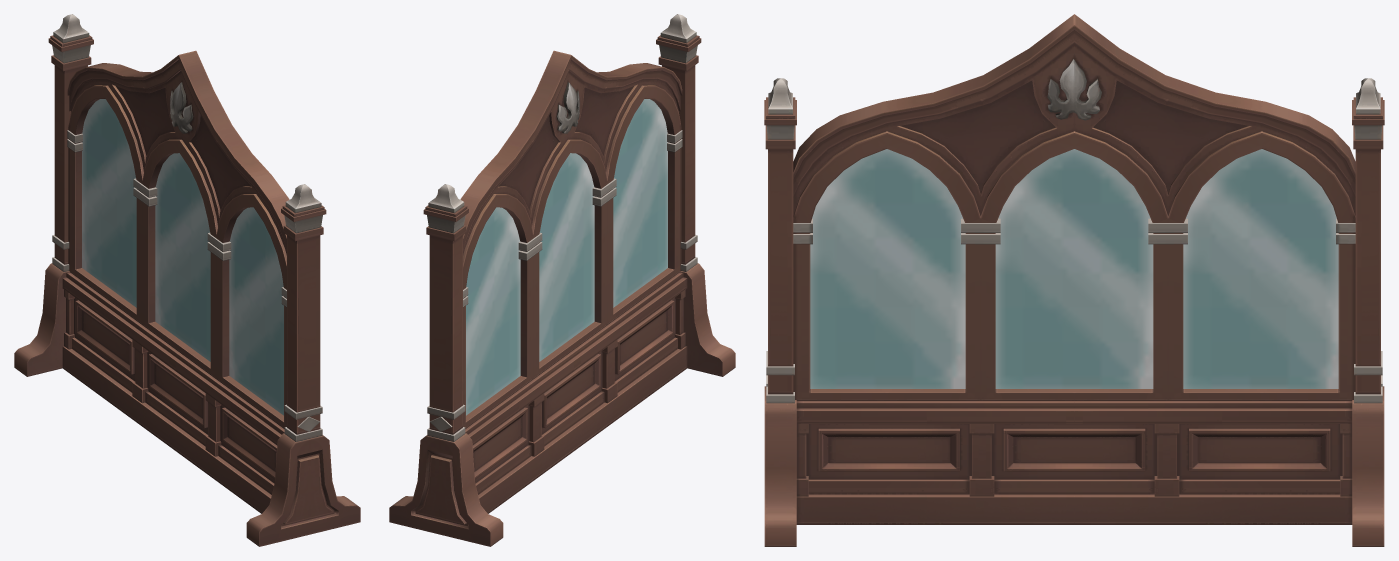
Rendered from my_wildhunt_01_partition_04.glb.
The picture shows the model from 3 angles, left to right: view 1: azimuth 30°, elevation 25°; view 2: azimuth 150°, elevation 25°; view 3: azimuth 270°, elevation 25°; orthographic projection. The views are drawn at different scales.
Parts seen in each view (by area): view 1: my_wildhunt_01_partition_04.001, my_wildhunt_01_partition_04_glass; view 2: my_wildhunt_01_partition_04.001, my_wildhunt_01_partition_04_glass; view 3: my_wildhunt_01_partition_04.001, my_wildhunt_01_partition_04_glass.
Part boxes in pixels (left/top/right/bottom): my_wildhunt_01_partition_04.001: left=14, top=14, right=360, bottom=546; my_wildhunt_01_partition_04_glass: left=82, top=99, right=283, bottom=415; my_wildhunt_01_partition_04.001: left=389, top=14, right=735, bottom=546; my_wildhunt_01_partition_04_glass: left=466, top=99, right=667, bottom=415; my_wildhunt_01_partition_04.001: left=764, top=14, right=1384, bottom=546; my_wildhunt_01_partition_04_glass: left=810, top=149, right=1338, bottom=388.
Bounding box in the file's own units: 0.00429 × 0.0159 × 0.018.
Materials: 2 (2 with a texture image).
